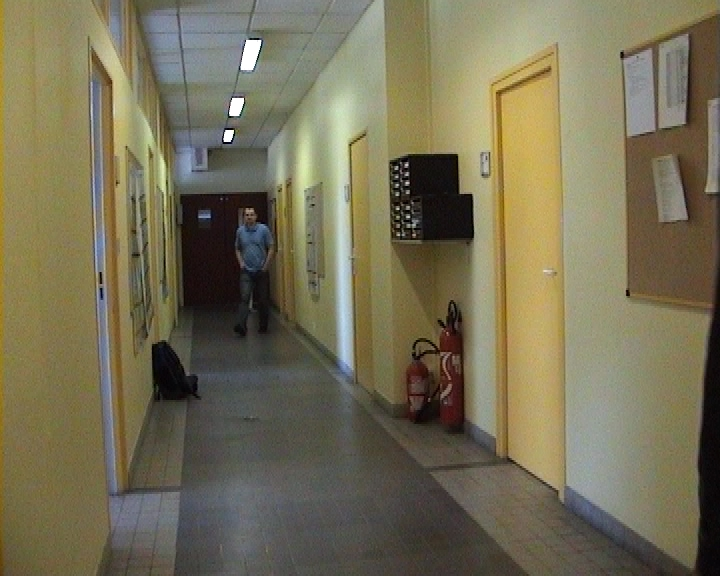leave bag unattended: (137, 324, 218, 421)
